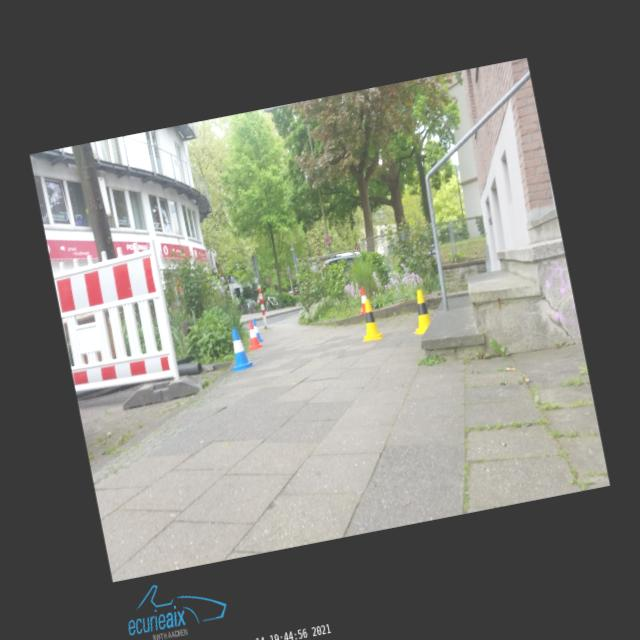blue_cone: (223, 326, 256, 372), (252, 319, 264, 342)
orange_cone: (244, 320, 263, 350), (355, 286, 373, 314)
yellow_cone: (355, 298, 385, 342), (406, 289, 434, 336)
